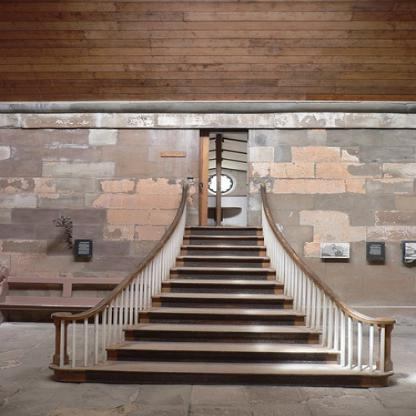stairs: (163, 301, 289, 390)
